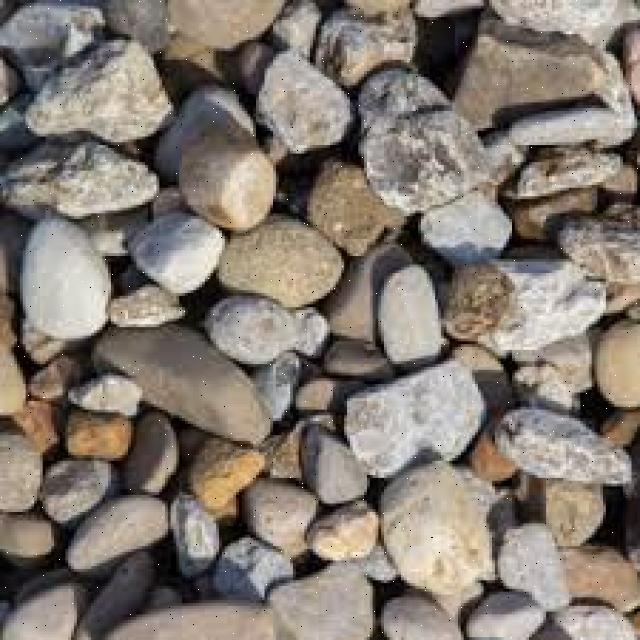Metamorphic: (6, 3, 634, 631)
